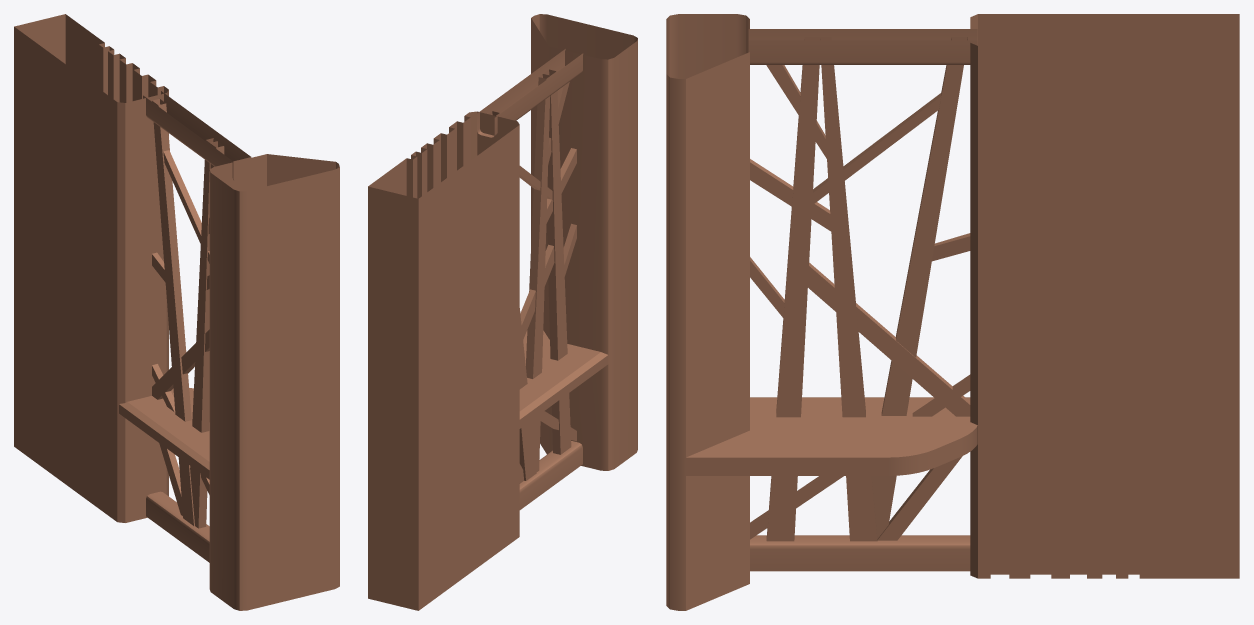
File: living_room_partition_wall.fbx
3 renders of one model, left to right at view 1: azimuth 30°, elevation 25°; view 2: azimuth 150°, elevation 25°; view 3: azimuth 270°, elevation 25°, orthographic. The views are drawn at different scales.
Visible parts, largest first — view 1: pCube56; view 2: pCube56; view 3: pCube56.
Part boxes in pixels (left/top/right/bottom): pCube56: left=14, top=14, right=339, bottom=610; pCube56: left=368, top=14, right=637, bottom=610; pCube56: left=666, top=14, right=1239, bottom=610.
Bounding box in the file's own units: 0.8008 × 3.08 × 2.98.
